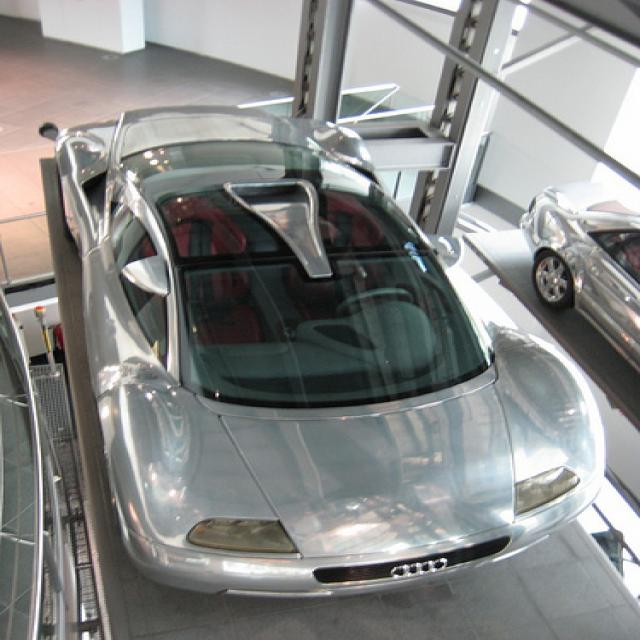Car: (45, 98, 609, 588)
